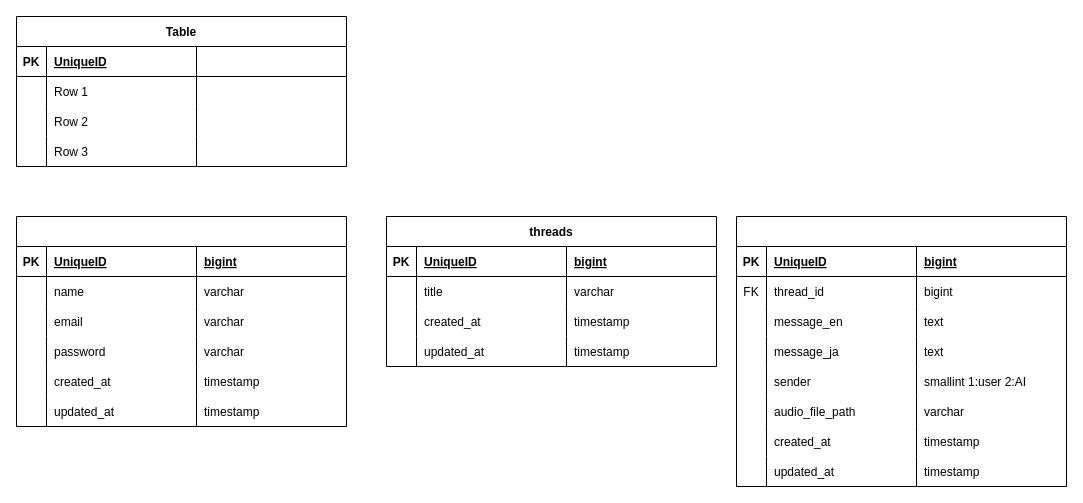
Some shapes in this 1083 by 503 pixel diagram are drawn without their labels. Here are the shapes that lost their labels. From the top down, the box of each, then its label:
(16, 216, 346, 426): users
(736, 216, 1066, 486): messages
